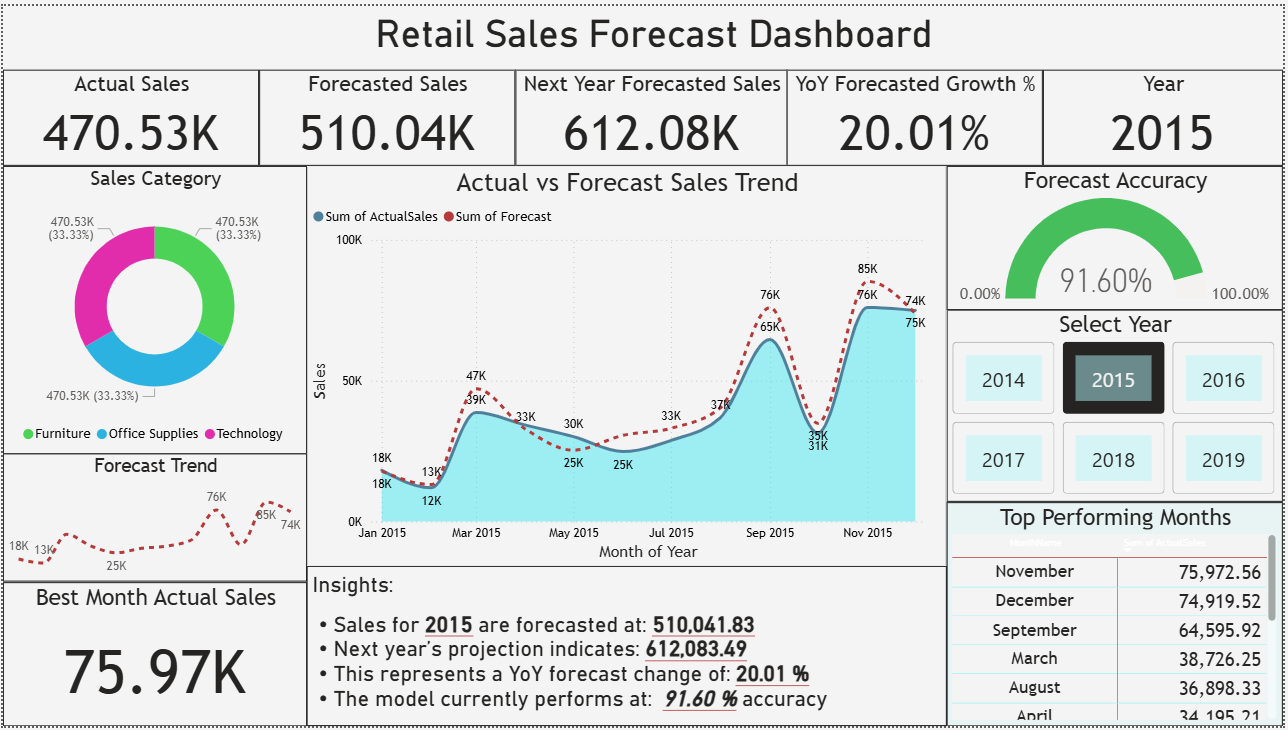

The page's visual inventory and layout, read from the dashboard file:
{"tool":"powerbi","page":{"name":"Page 1","canvas":[1280,720],"ordinal":0},"visuals":[{"type":"textbox","box":[368,0,576,64],"z":0},{"type":"card","title":"Actual Sales","fields":{"Values":["Sum(sales_forecast.ActualSales)"]},"box":[0,64,256,96],"z":1000},{"type":"advancedSlicerVisual","title":"Select Year","fields":{"Values":["sales_forecast.Year"]},"box":[944,304,336,192],"z":2000},{"type":"lineChart","title":"Actual vs Forecast Sales Trend","fields":{"Category":["sales_forecast.ds"],"Y":["Sum(sales_forecast.ActualSales)","Sum(sales_forecast.Forecast)"]},"box":[304,160,640,400],"z":3000},{"type":"gauge","title":"Forecast Accuracy","fields":{"Y":["sales_forecast.Forecast Accuracy %"]},"box":[944,160,336,144],"z":4000},{"type":"card","title":"Year ","fields":{"Values":["Max(sales_forecast.Year)"]},"box":[1040,64,240,96],"z":5000},{"type":"card","title":"Forecasted Sales","fields":{"Values":["Sum(sales_forecast.Forecast)"]},"box":[256,64,256,96],"z":6000},{"type":"donutChart","title":"Sales Category","fields":{"Category":["Superstore_clean.Category"],"Y":["Sum(sales_forecast.ActualSales)"]},"box":[0,160,304,288],"z":7000},{"type":"card","title":"Next Year Forecasted Sales","fields":{"Values":["sales_forecast.Next Year Forecast Sales"]},"box":[512,64,272,96],"z":8000},{"type":"card","title":"YoY Forecasted Growth %","fields":{"Values":["sales_forecast.YoY Forecast Growth %"]},"box":[784,64,256,96],"z":9000},{"type":"lineChart","title":"Forecast Trend","fields":{"Y":["Sum(sales_forecast.Forecast)"],"Category":["sales_forecast.ds.Variation.Date Hierarchy.Year","sales_forecast.ds.Variation.Date Hierarchy.Quarter","sales_forecast.ds.Variation.Date Hierarchy.Month","sales_forecast.ds.Variation.Date Hierarchy.Day"]},"box":[0,448,304,128],"z":10000},{"type":"textbox","box":[304,560,640,160],"z":11000},{"type":"pivotTable","title":"Top Performing Months","fields":{"Rows":["sales_forecast.MonthName"],"Values":["Sum(sales_forecast.ActualSales)"]},"box":[944,496,336,224],"z":12000},{"type":"card","title":"Best Month Actual Sales","fields":{"Values":["sales_forecast.Best Month Sales"]},"box":[0,576,304,144],"z":12001}]}

Visuals, with their boxes in screenshot pixels (x1, y1, x2, y2), scaled from the page's 1280x720 canvas onto the 1288x730 screenshot:
textbox: Rect(370, 0, 950, 65)
"Actual Sales" card: Rect(0, 65, 258, 162)
"Select Year" advancedSlicerVisual: Rect(950, 308, 1287, 503)
"Actual vs Forecast Sales Trend" lineChart: Rect(306, 162, 950, 568)
"Forecast Accuracy" gauge: Rect(950, 162, 1287, 308)
"Year " card: Rect(1046, 65, 1287, 162)
"Forecasted Sales" card: Rect(258, 65, 515, 162)
"Sales Category" donutChart: Rect(0, 162, 306, 454)
"Next Year Forecasted Sales" card: Rect(515, 65, 789, 162)
"YoY Forecasted Growth %" card: Rect(789, 65, 1046, 162)
"Forecast Trend" lineChart: Rect(0, 454, 306, 584)
textbox: Rect(306, 568, 950, 729)
"Top Performing Months" pivotTable: Rect(950, 503, 1287, 729)
"Best Month Actual Sales" card: Rect(0, 584, 306, 729)
